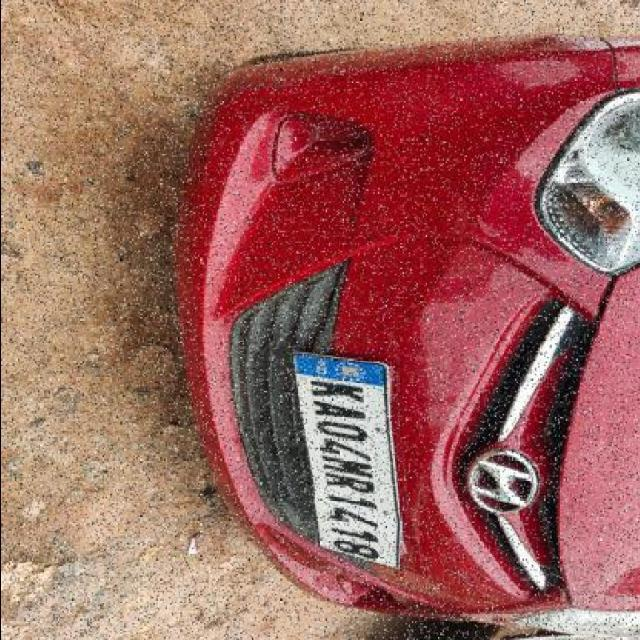front-bumper-dent: (188, 57, 362, 363)
